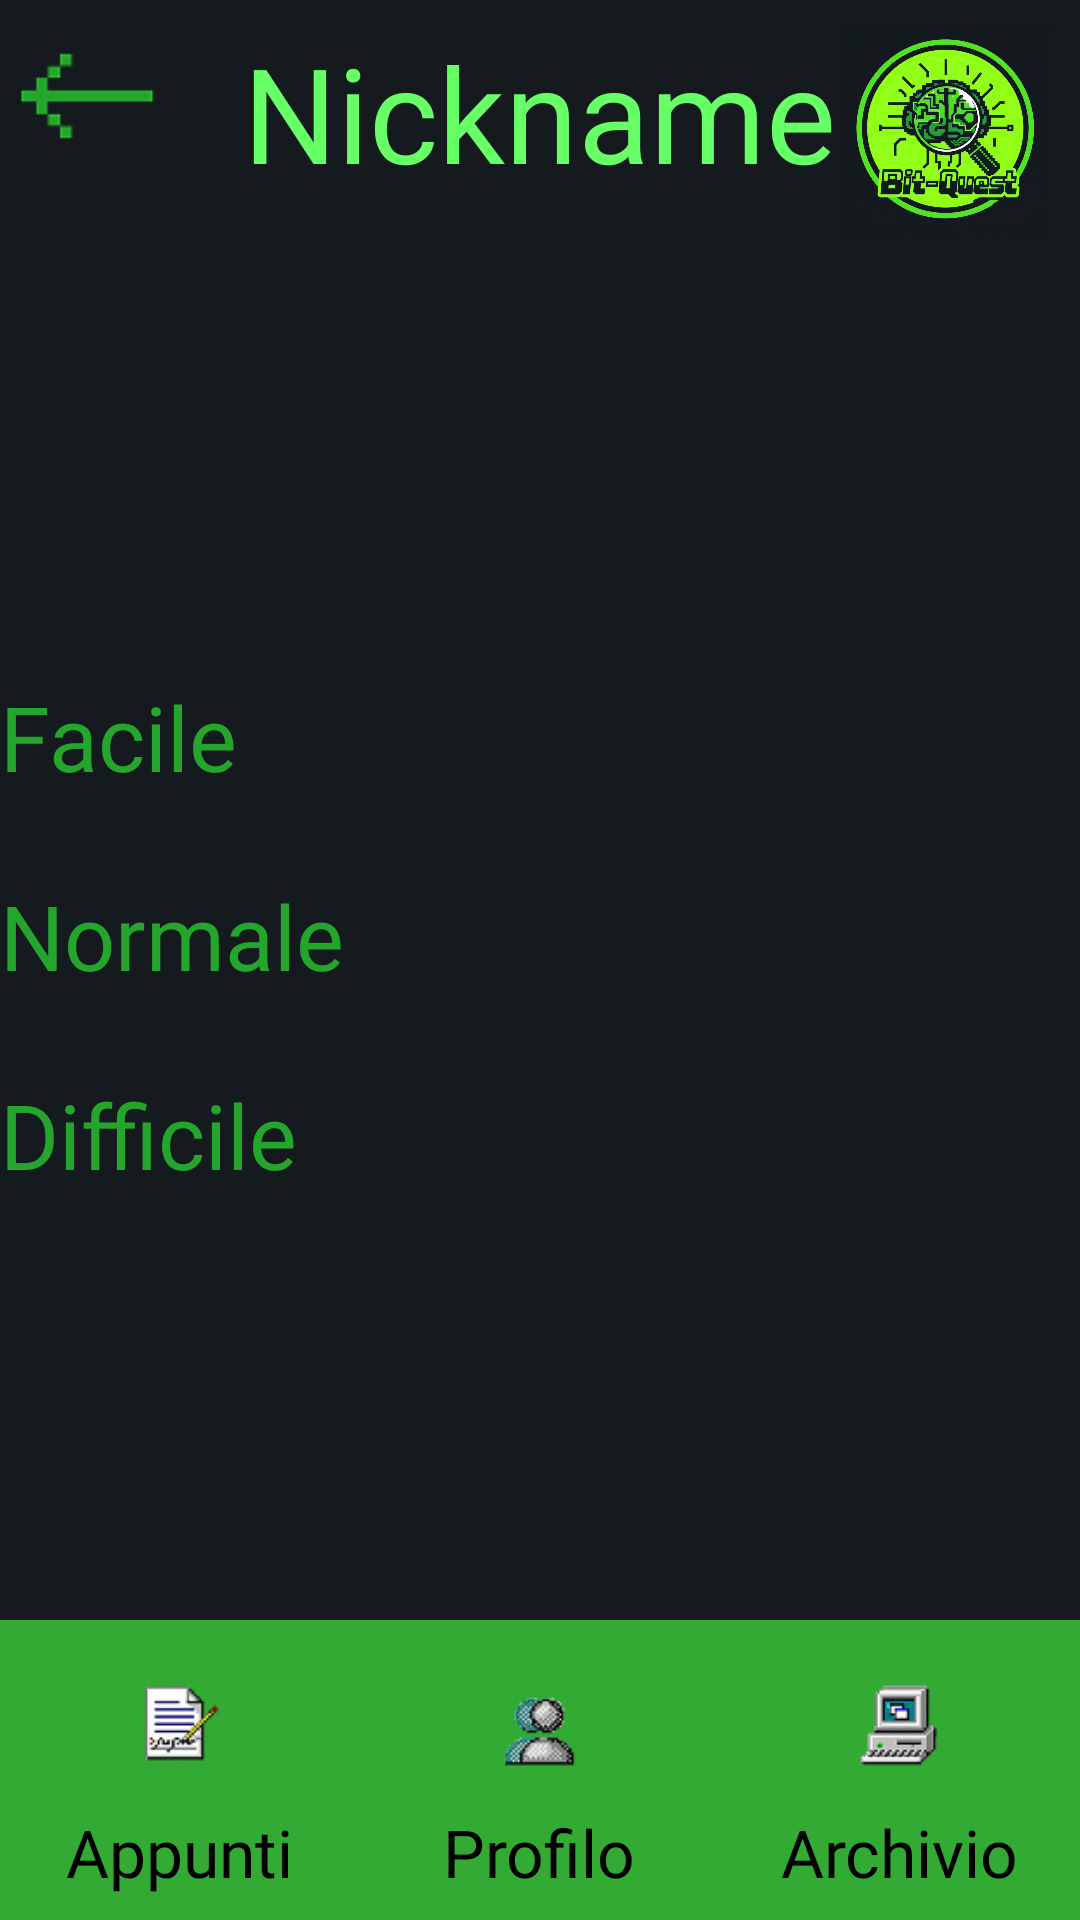

Where icons sit on this 1080w x 1920h app screen, as bbox=(x1, y1, x2, y2):
arrow back: bbox=(21, 53, 153, 139)
notes: bbox=(145, 1685, 219, 1761)
profile: bbox=(505, 1697, 574, 1766)
